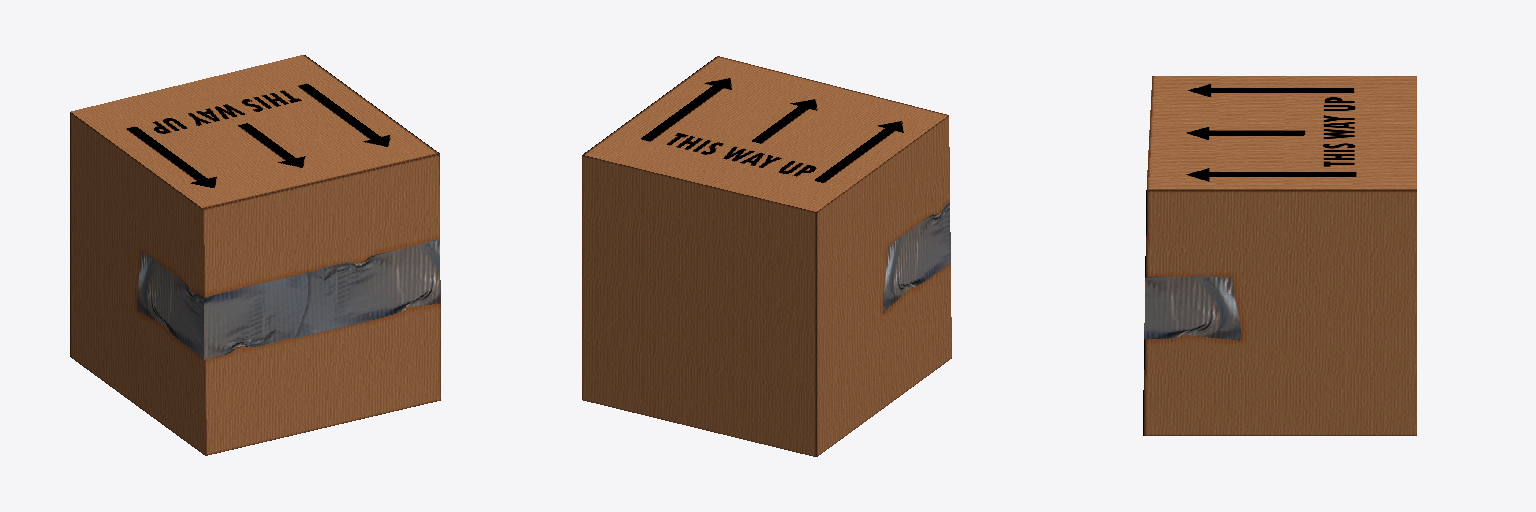
The picture shows the model from 3 angles: view 1: azimuth 30°, elevation 25°; view 2: azimuth 150°, elevation 25°; view 3: azimuth 270°, elevation 25°; orthographic projection.
Parts seen in each view (by area): view 1: Cube.003_Cube.008; view 2: Cube.003_Cube.008; view 3: Cube.003_Cube.008.
Part boxes in pixels (x1,y1,x2,y2): Cube.003_Cube.008: (70, 55, 440, 455); Cube.003_Cube.008: (582, 56, 951, 456); Cube.003_Cube.008: (1143, 76, 1416, 435).
Bounding box in the file's own units: 0.2 × 0.2001 × 0.2027.
Materials: 1 (1 with a texture image).